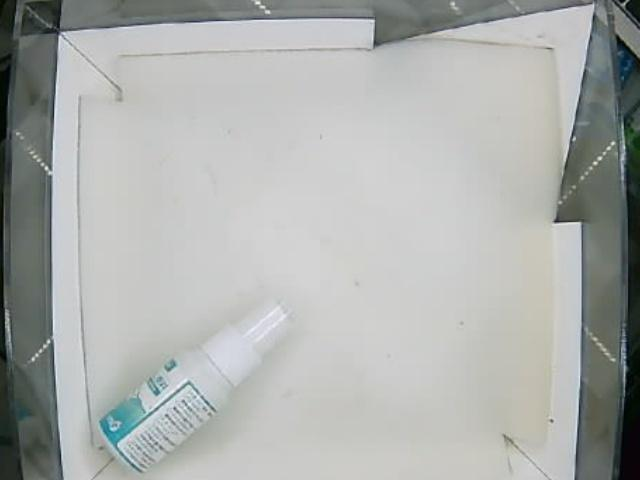Bottle: (94, 294, 294, 473)
